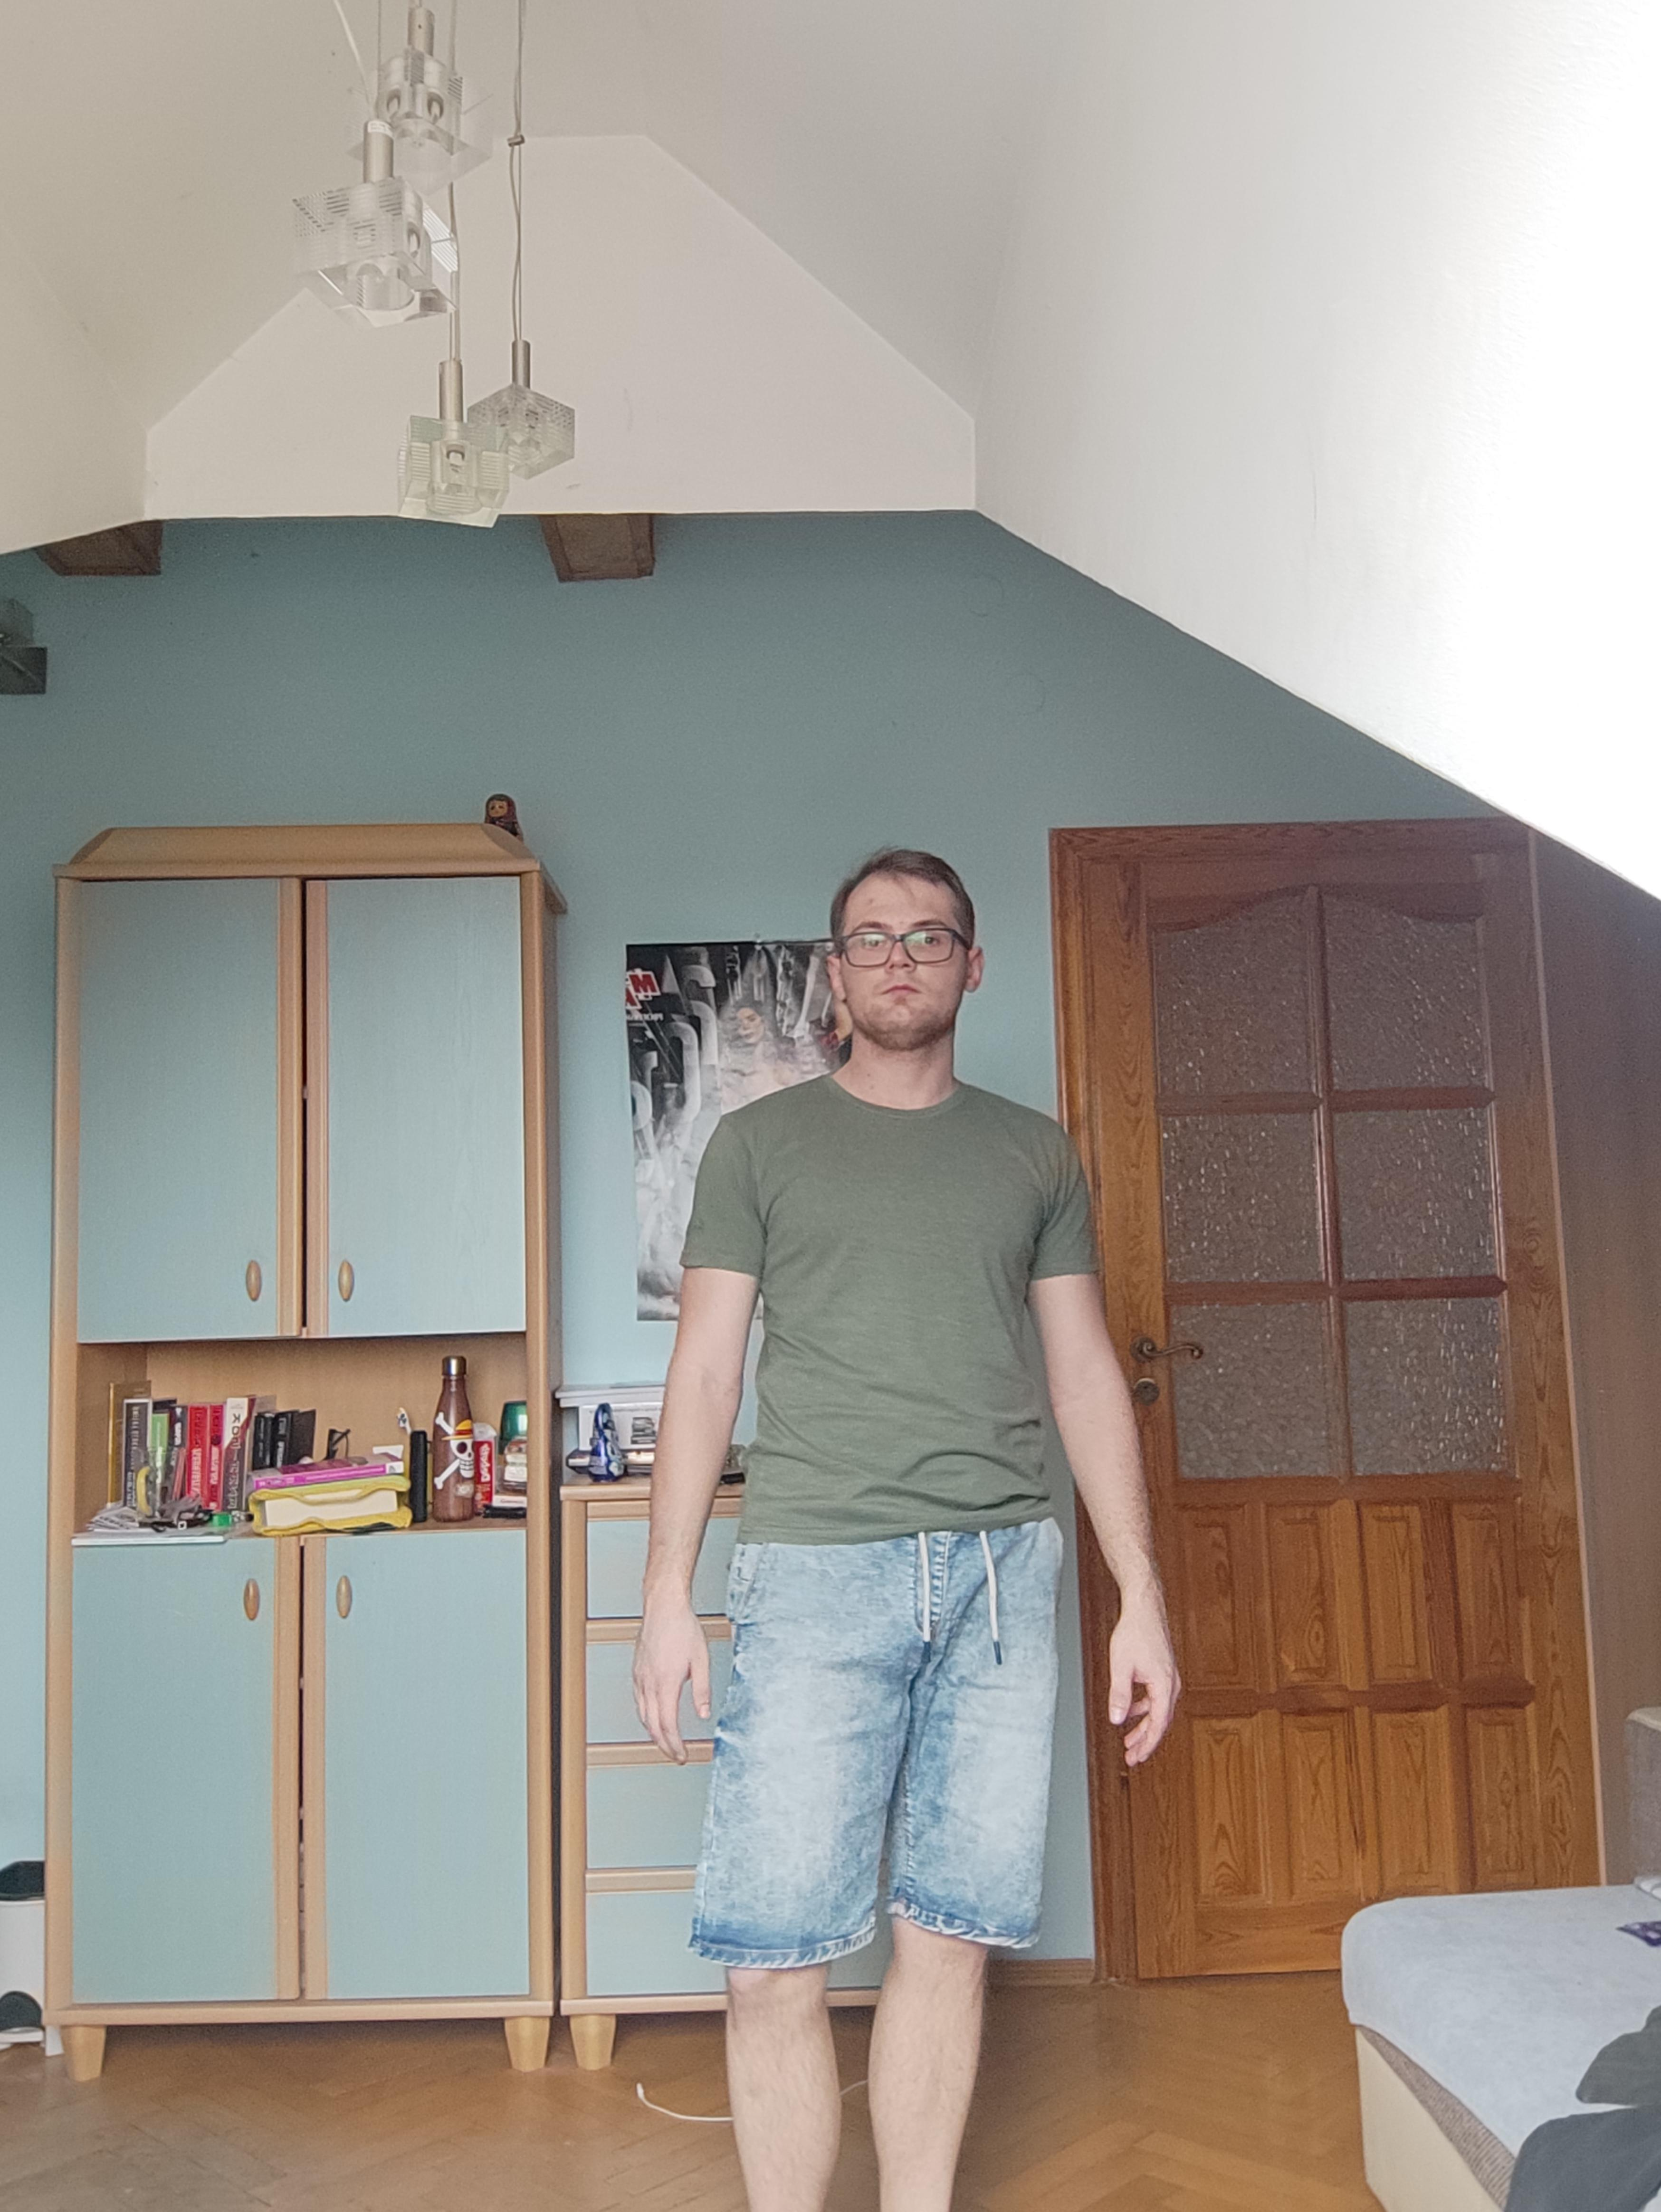Tshirt: (680, 1068, 1104, 1546)
short: (686, 1499, 1070, 1971)
